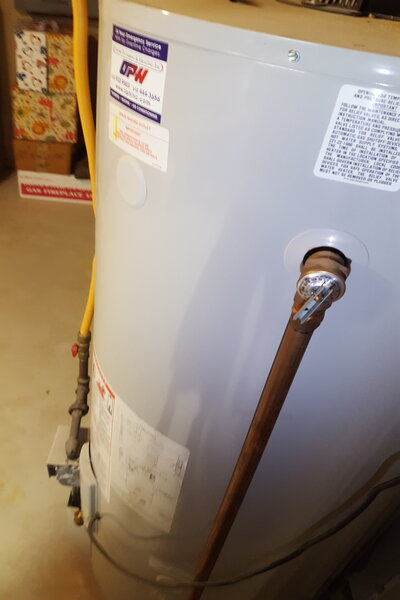valve: (292, 243, 349, 345)
